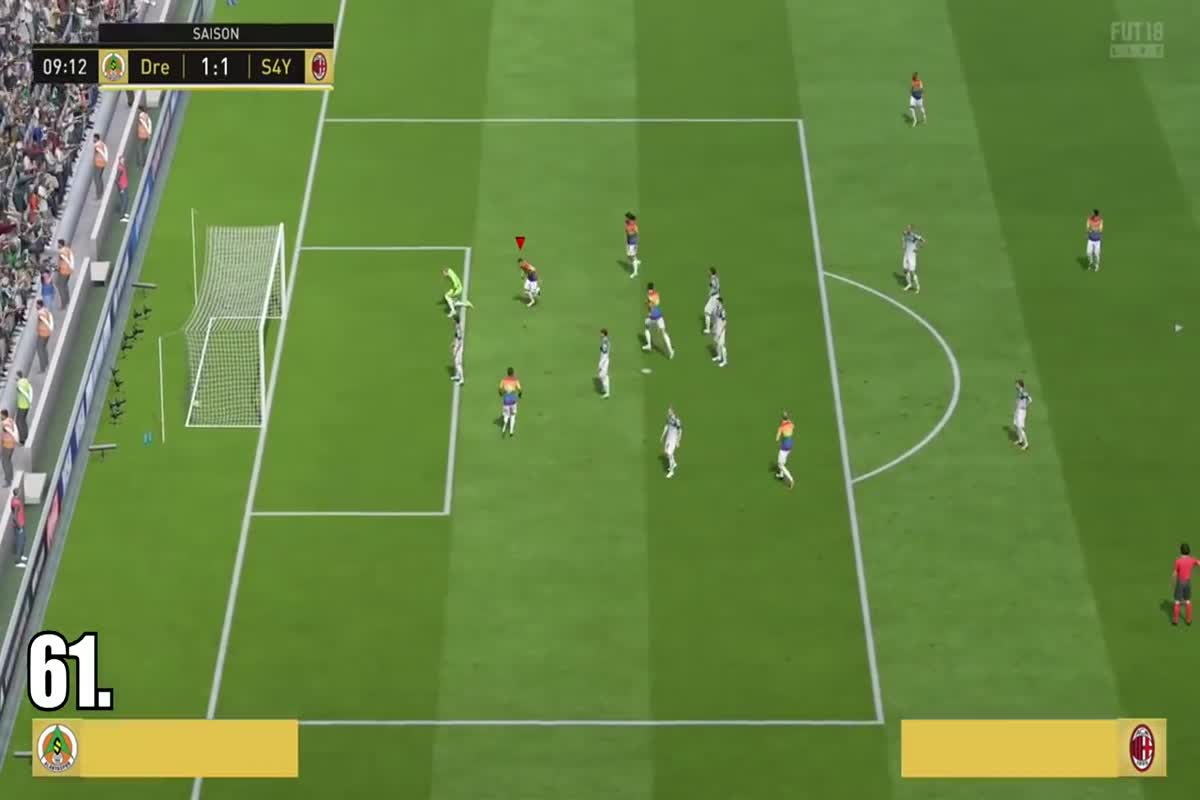ball: (190, 396, 207, 415)
